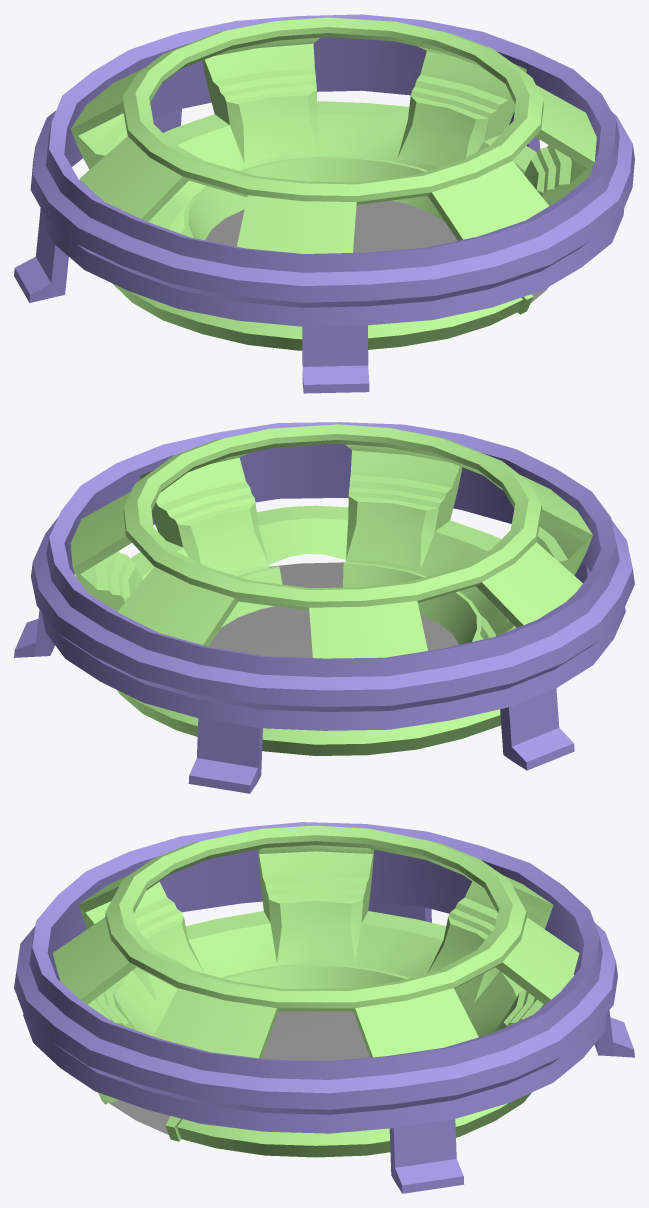
Rendered from Arena.fbx.
The picture shows the model from 3 angles, top to bottom: view 1: azimuth 30°, elevation 25°; view 2: azimuth 150°, elevation 25°; view 3: azimuth 270°, elevation 25°; orthographic projection.
Visible parts, largest first — view 1: Arena; view 2: Arena; view 3: Arena.
Boxes of the visible parts, bbox=[...] form: Arena: bbox=[14, 14, 634, 393]; Arena: bbox=[14, 422, 634, 793]; Arena: bbox=[14, 822, 634, 1193].
Size of the model in its own units: 349 by 97.4 by 350.
